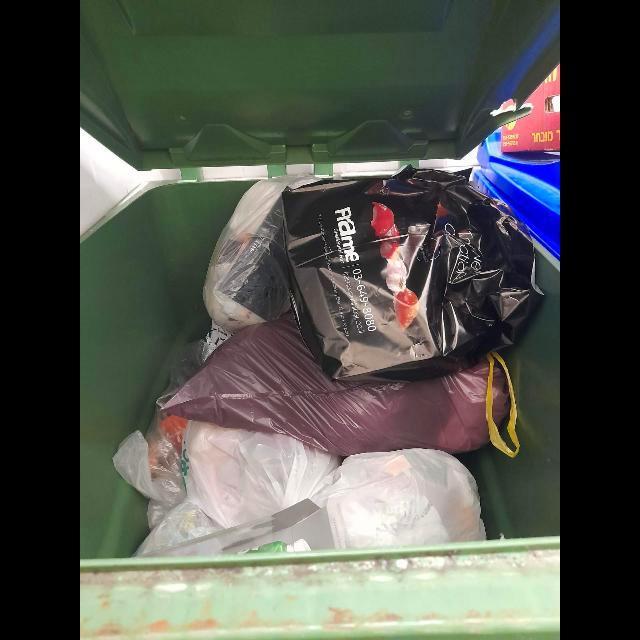cardboard: (142, 499, 334, 557)
plastic_bag: (281, 166, 544, 382), (162, 309, 521, 458), (133, 421, 345, 557), (112, 340, 216, 531), (325, 448, 487, 553), (203, 180, 292, 334)
